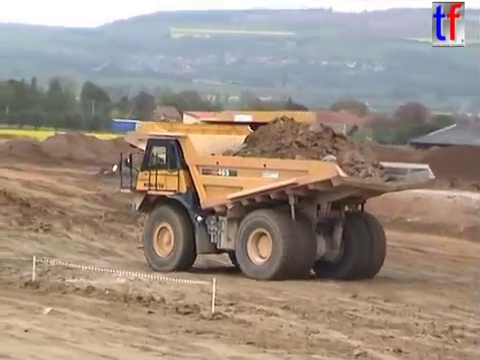truck: (110, 118, 438, 282), (121, 109, 341, 237)
